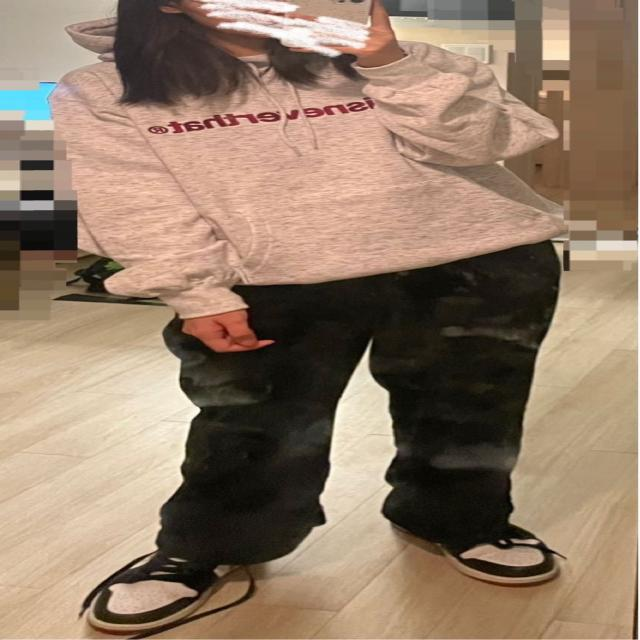hoodies: (39, 11, 552, 315)
slacks: (149, 243, 562, 573)
